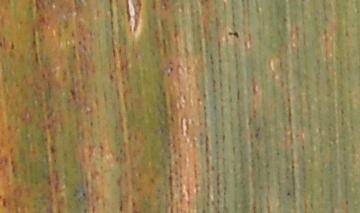tarspot: (222, 29, 240, 39)
